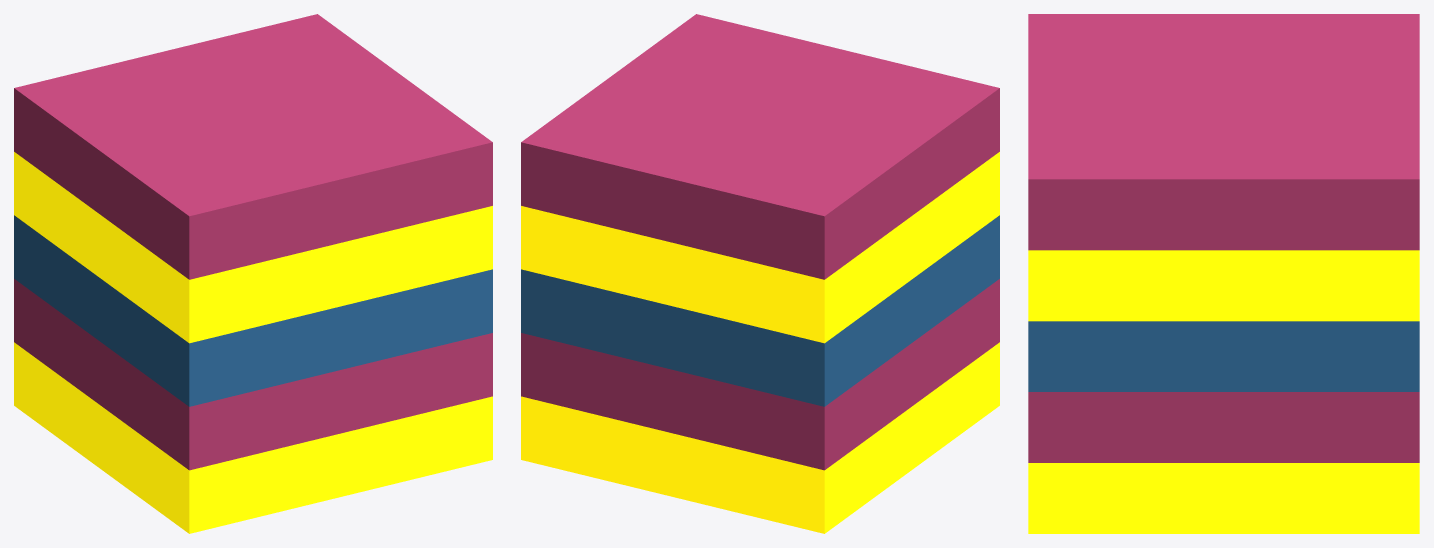
The model's file is paper.fbx.
3 renders of one model, left to right at view 1: azimuth 30°, elevation 25°; view 2: azimuth 150°, elevation 25°; view 3: azimuth 270°, elevation 25°, orthographic. The views are drawn at different scales.
Visible parts, largest first — view 1: paper; view 2: paper; view 3: paper.
Part boxes in pixels (x1=…): paper: x1=14, y1=14, x2=492, y2=533; paper: x1=521, y1=14, x2=999, y2=533; paper: x1=1028, y1=14, x2=1419, y2=533.
Bounding box in the file's own units: 10 × 10 × 10.
